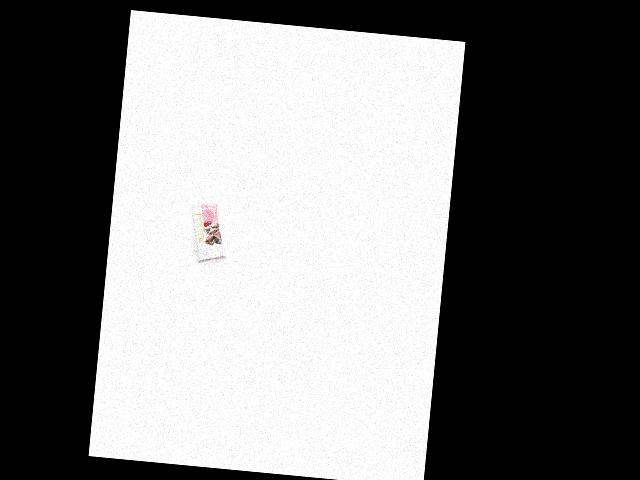chocolate: (184, 202, 232, 264)
